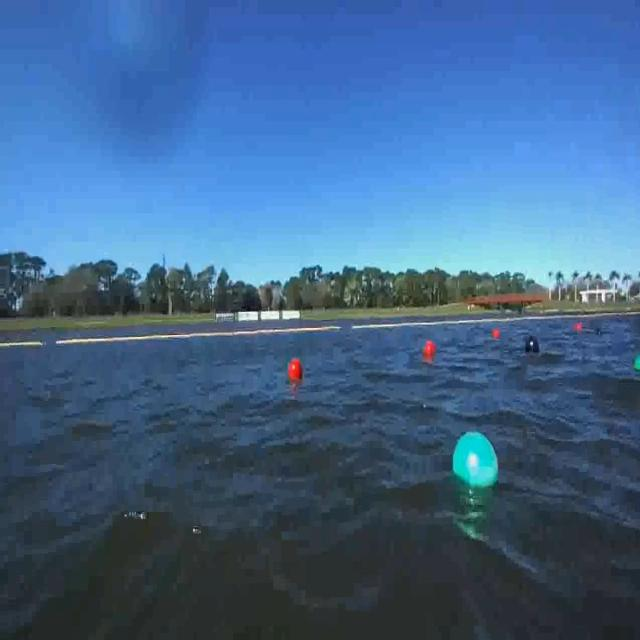black-buoy: (525, 336, 540, 355)
green-buoy: (452, 431, 499, 490), (634, 355, 640, 371)
red-buoy: (288, 358, 302, 379), (424, 342, 436, 359), (492, 328, 500, 338)
